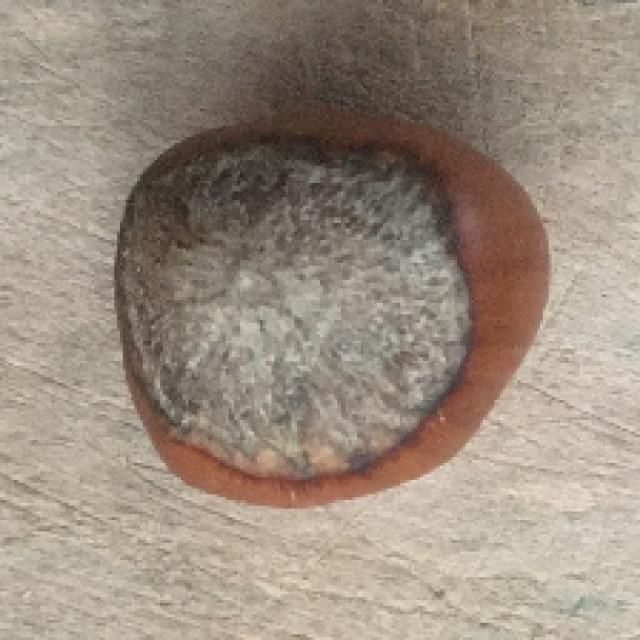qualityHazelnut: (99, 104, 542, 508)
